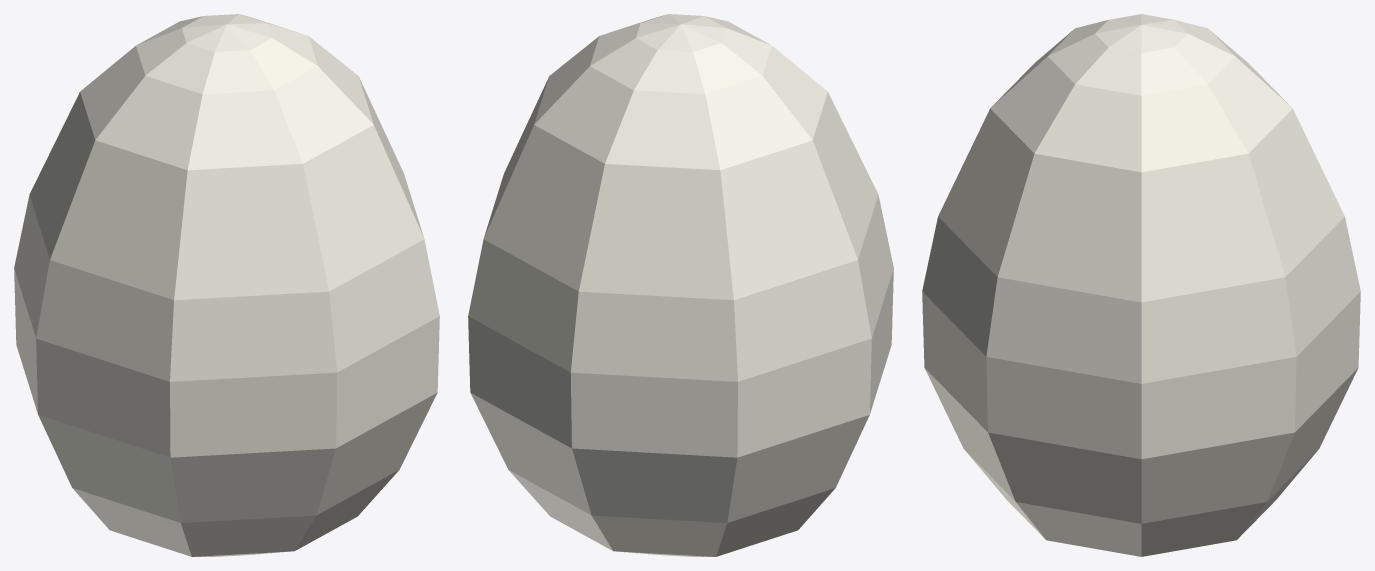
File: Food_egg.glb
The picture shows the model from 3 angles, left to right: view 1: azimuth 30°, elevation 25°; view 2: azimuth 150°, elevation 25°; view 3: azimuth 270°, elevation 25°; orthographic projection.
Parts seen in each view (by area): view 1: egg_002; view 2: egg_002; view 3: egg_002.
Part boxes in pixels (<box>): egg_002: <box>14,14,439,556</box>; egg_002: <box>468,14,893,556</box>; egg_002: <box>922,14,1360,556</box>.
Size of the model in its own units: 0.0784 by 0.1023 by 0.0784.
1 material, 1 textured.
